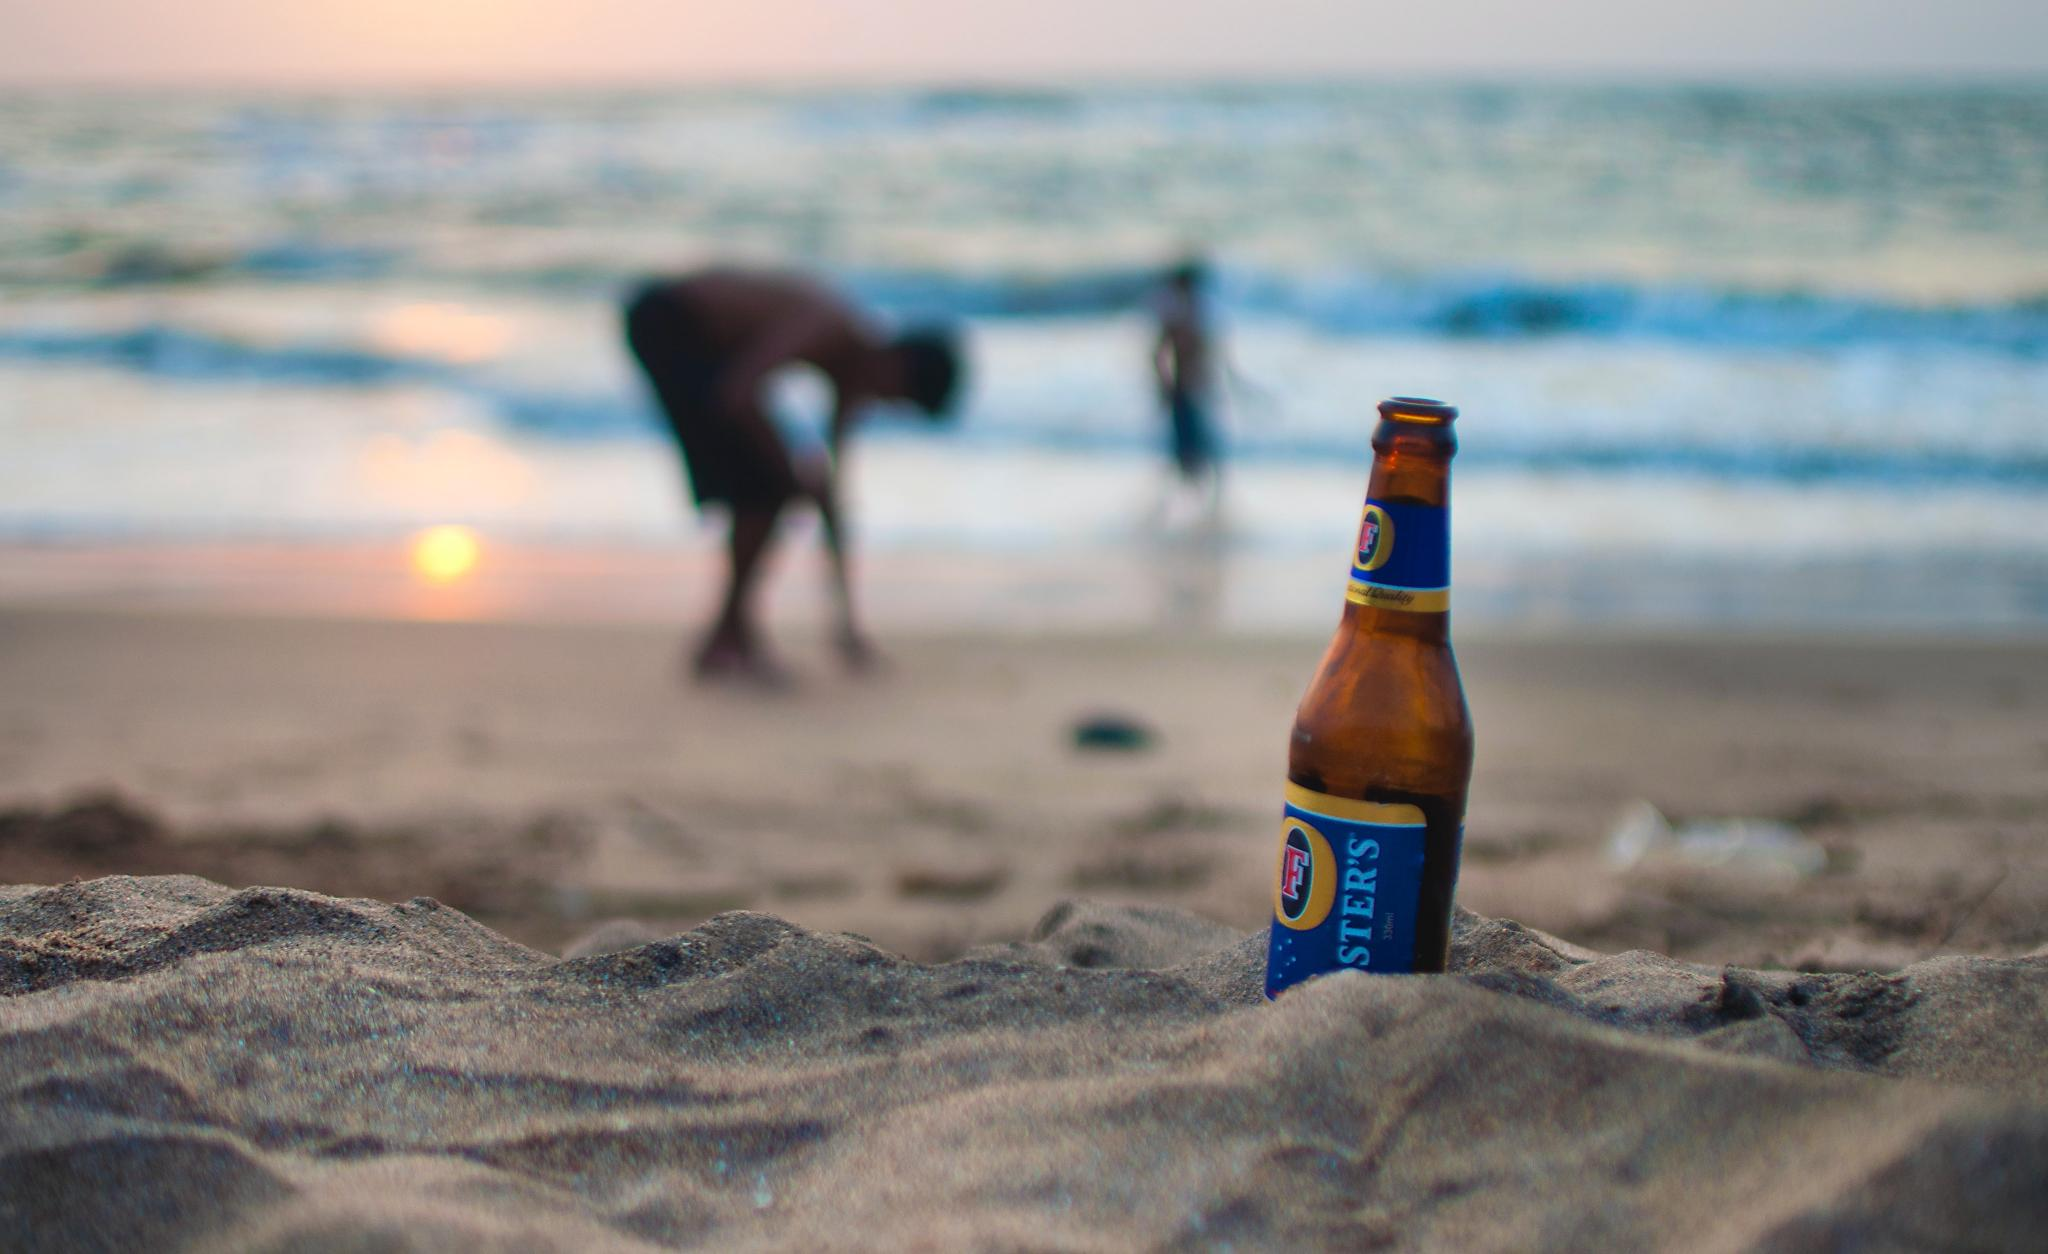Glass: (1262, 385, 1480, 1013)
